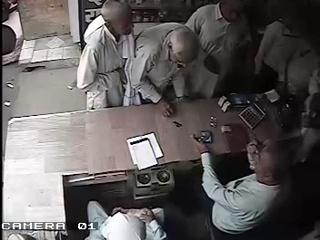Normal: (192, 132, 292, 240), (183, 0, 270, 99), (123, 23, 201, 118), (84, 200, 168, 240)
shoplifting: (76, 0, 136, 110)
